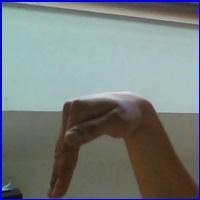A: (48, 86, 159, 200)
